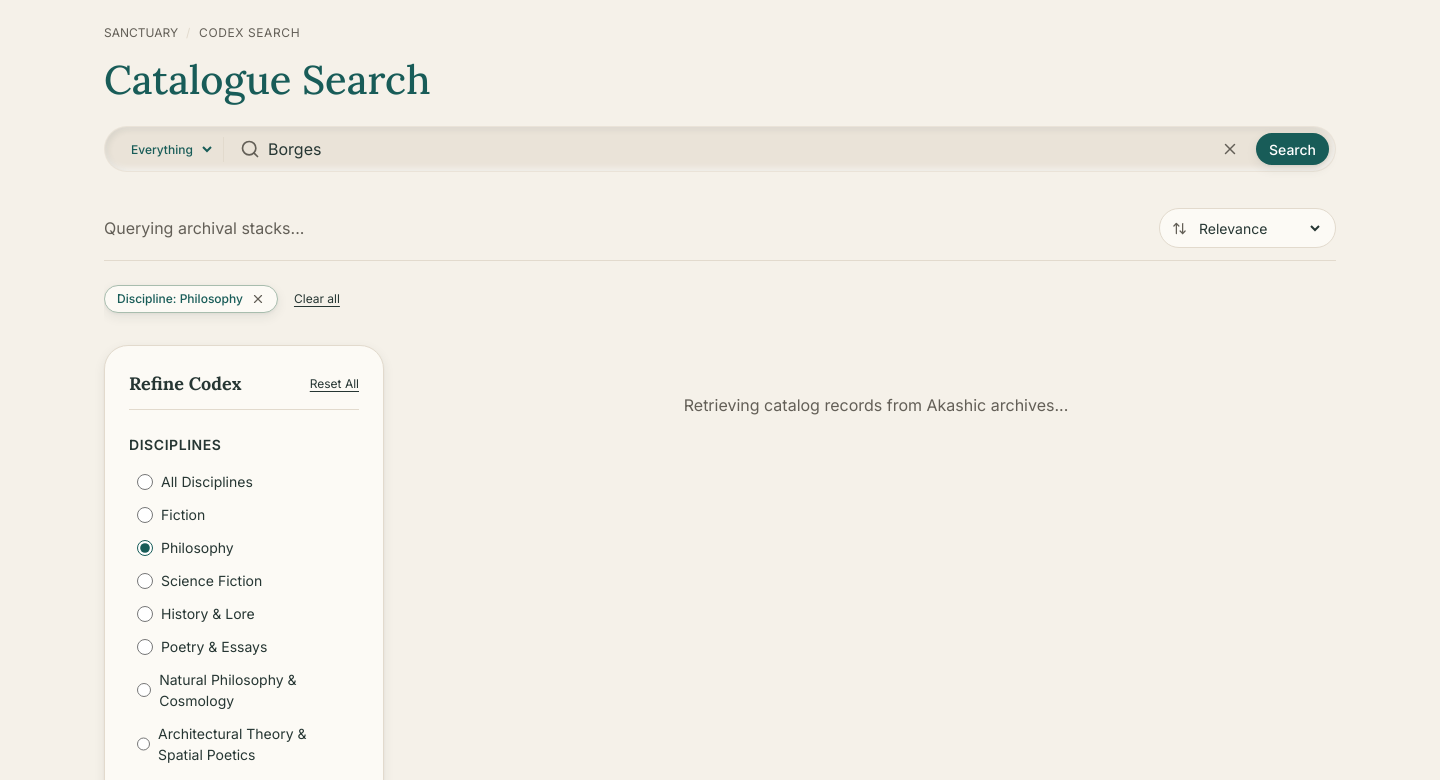
Test case: SearchResultsPage Component › renders active filter chips and allows clearing them
Expected: the text "Discipline: Philosophy" is shown, 117,290 -> 243,308
Click the button "Clear all": (317, 299) 286,290 -> 348,308
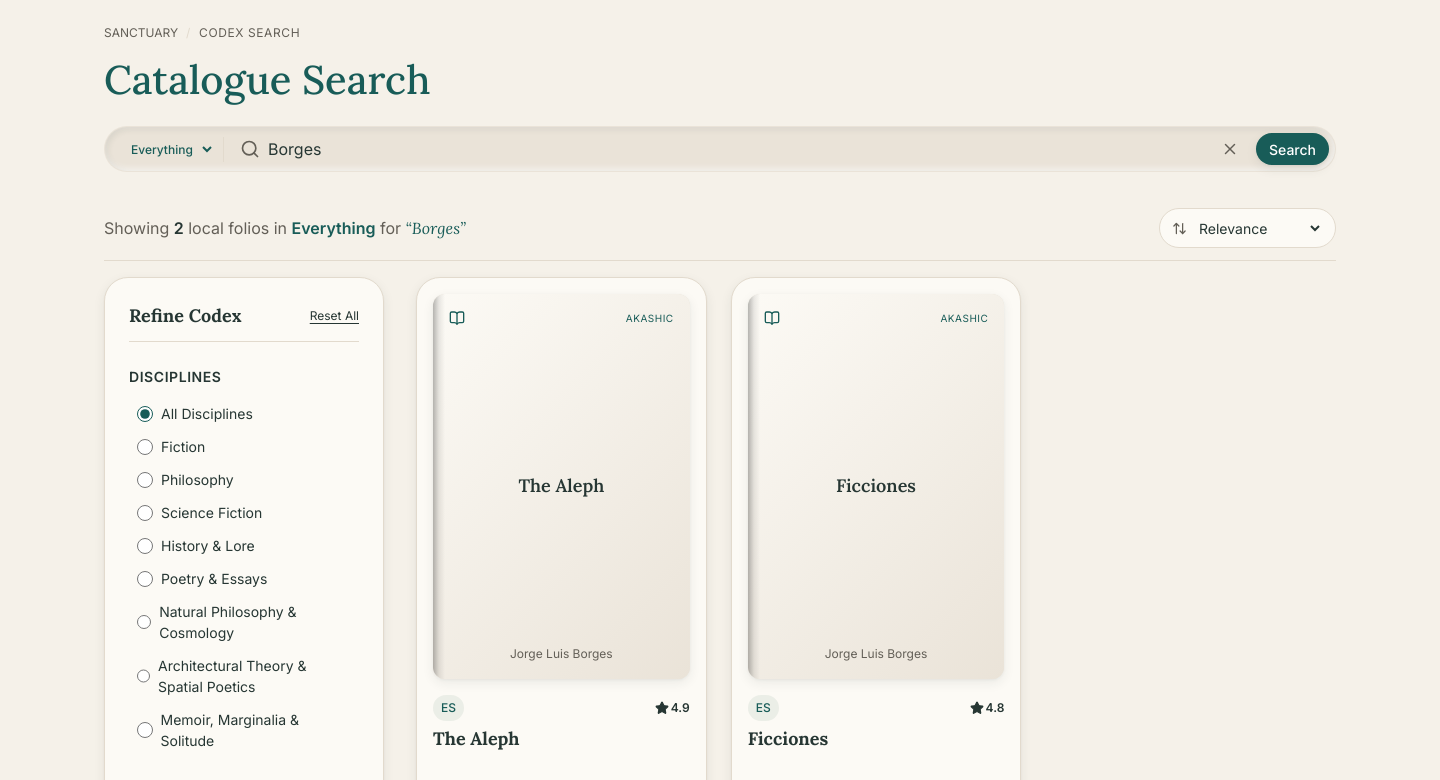
Expected: the text "Discipline: Philosophy" is gone
